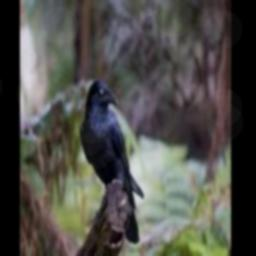Crow: (79, 80, 144, 210)
